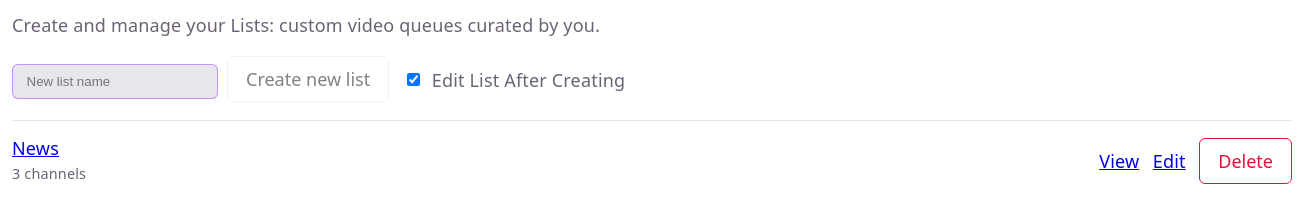
Test case: ListsSettingsPage › confirms, deletes, and refetches the list on success
Expected: the link "News" is shown, [12,136,59,160]
Click the button "Delete": (1246, 161) [1199,138,1292,184]
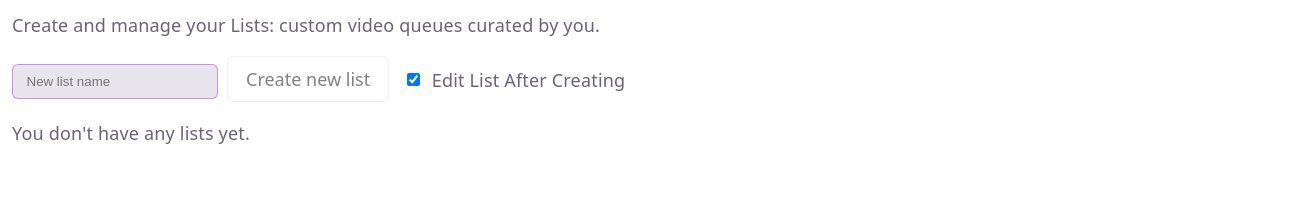
Expected: the text "You don't have any lists yet." is shown, [12,121,250,145]
